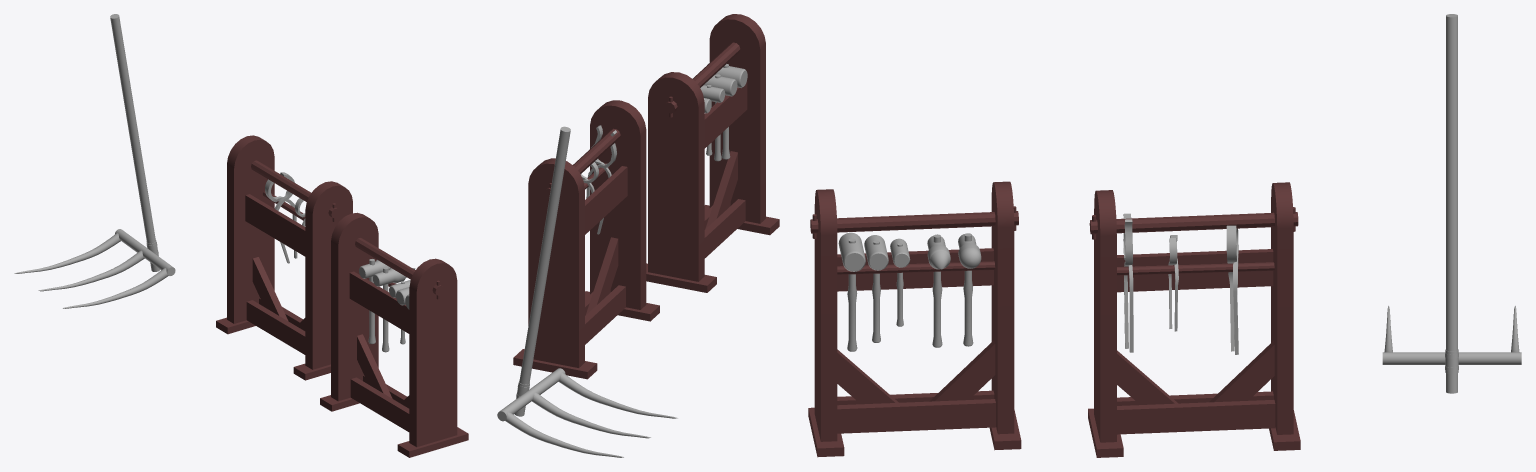
Rendered from Tools.fbx.
The picture shows the model from 3 angles, left to right: view 1: azimuth 30°, elevation 25°; view 2: azimuth 150°, elevation 25°; view 3: azimuth 270°, elevation 25°; orthographic projection. The views are drawn at different scales.
Parts seen in each view (by area): view 1: pasted__polySurface167, pasted__polySurface156, pasted__polySurface162, pasted__polySurface163, pasted__polySurface164, pasted__polySurface165, pasted__polySurface166, pasted__polySurface161; view 2: pasted__polySurface167, pasted__polySurface156, pasted__polySurface162, pasted__polySurface163, pasted__polySurface164, pasted__polySurface165, pasted__polySurface166, pasted__transform11, pasted__polySurface146, pasted__polySurface104, pasted__polySurface149; view 3: pasted__polySurface156, pasted__polySurface167, pasted__polySurface162, pasted__polySurface163, pasted__transform11, pasted__polySurface161, pasted__polySurface104, pasted__polySurface150, pasted__polySurface151, pasted__polySurface103.
Boxes of the visible parts, box(x1,y1,x2,y2) form: pasted__polySurface167: box(320, 212, 468, 457); pasted__polySurface156: box(216, 135, 352, 380); pasted__polySurface162: box(110, 14, 159, 271); pasted__polySurface163: box(115, 229, 175, 275); pasted__polySurface164: box(63, 268, 170, 308); pasted__polySurface165: box(38, 250, 144, 291); pasted__polySurface166: box(14, 233, 120, 273); pasted__polySurface161: box(265, 172, 297, 263); pasted__polySurface167: box(646, 14, 779, 292); pasted__polySurface156: box(513, 100, 659, 379); pasted__polySurface162: box(514, 126, 570, 416); pasted__polySurface163: box(497, 368, 565, 421); pasted__polySurface164: box(558, 373, 677, 418); pasted__polySurface165: box(532, 392, 650, 438); pasted__polySurface166: box(505, 412, 623, 457); pasted__transform11: box(586, 125, 616, 234); pasted__polySurface146: box(704, 75, 737, 96); pasted__polySurface104: box(707, 63, 747, 87); pasted__polySurface149: box(700, 85, 725, 102); pasted__polySurface156: box(1088, 182, 1300, 457); pasted__polySurface167: box(808, 181, 1021, 457); pasted__polySurface162: box(1446, 14, 1457, 393); pasted__polySurface163: box(1382, 352, 1521, 364); pasted__transform11: box(1123, 213, 1133, 352); pasted__polySurface161: box(1226, 225, 1238, 354); pasted__polySurface104: box(838, 232, 865, 271); pasted__polySurface150: box(932, 234, 942, 347); pasted__polySurface151: box(963, 233, 973, 346); pasted__polySurface103: box(847, 238, 857, 351).
Bounding box in the file's own units: 7.88 × 10.85 × 19.05.
